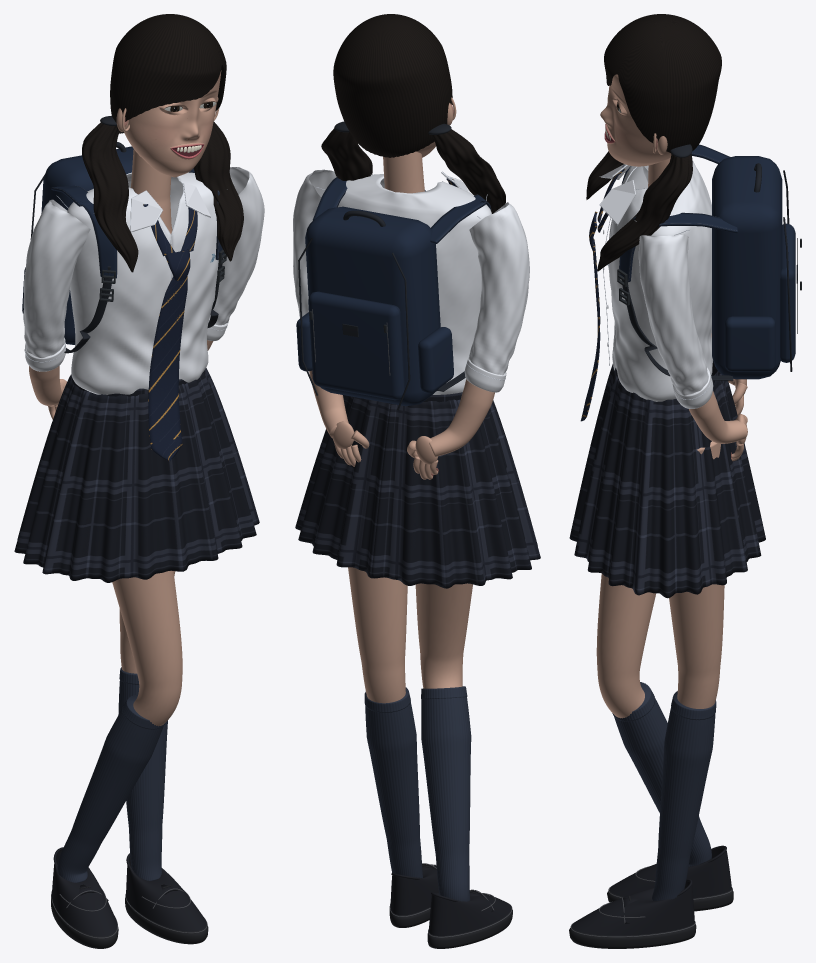
File: gpt6_astra_pro_mcp_blender_rgirljk_lite_web.glb
3 views of the same model, side by side, from view 1: azimuth 30°, elevation 25°; view 2: azimuth 150°, elevation 25°; view 3: azimuth 270°, elevation 25° (orthographic). The views are drawn at different scales.
Visible parts, largest first — view 1: WEB - Original mathematical tartan, WEB - Shirt • soft cotton, WEB - Hair - natural dark underlying mass, WEB - Socks • ribbed midnight cotton, WEB - Skin • warm porcelain, WEB - Original diagonal gold tie weave, WEB - Loafers • black polished leather, Face - unified sculpted skin with exact eyelids and lips, WEB - Backpack • navy woven fabric, WEB - Loafer soles • rubber, WEB - Strap webbing, WEB - Leather stitching; view 2: WEB - Original mathematical tartan, WEB - Backpack • navy woven fabric, WEB - Shirt • soft cotton, WEB - Skin • warm porcelain, WEB - Hair - natural dark underlying mass, WEB - Socks • ribbed midnight cotton, WEB - Loafers • black polished leather, WEB - Strap webbing, WEB - Loafer soles • rubber, WEB - Leather stitching; view 3: WEB - Original mathematical tartan, WEB - Shirt • soft cotton, WEB - Backpack • navy woven fabric, WEB - Hair - natural dark underlying mass, WEB - Skin • warm porcelain, WEB - Socks • ribbed midnight cotton, WEB - Loafers • black polished leather, Face - unified sculpted skin with exact eyelids and lips, WEB - Loafer soles • rubber, WEB - Strap webbing, WEB - Original diagonal gold tie weave, WEB - Leather stitching.
Boxes of the visible parts, <box> form: WEB - Original mathematical tartan: <box>14,368,259,582</box>; WEB - Shirt • soft cotton: <box>23,167,264,394</box>; WEB - Hair - natural dark underlying mass: <box>82,14,243,272</box>; WEB - Socks • ribbed midnight cotton: <box>57,667,167,882</box>; WEB - Skin • warm porcelain: <box>29,97,219,726</box>; WEB - Original diagonal gold tie weave: <box>143,204,197,461</box>; WEB - Loafers • black polished leather: <box>52,847,206,936</box>; Face - unified sculpted skin with exact eyelids and lips: <box>124,70,221,177</box>; WEB - Backpack • navy woven fabric: <box>16,146,223,582</box>; WEB - Loafer soles • rubber: <box>51,884,208,948</box>; WEB - Strap webbing: <box>30,116,222,353</box>; WEB - Leather stitching: <box>51,171,218,938</box>; WEB - Original mathematical tartan: <box>295,392,540,588</box>; WEB - Backpack • navy woven fabric: <box>296,177,537,588</box>; WEB - Shirt • soft cotton: <box>293,169,529,394</box>; WEB - Skin • warm porcelain: <box>309,97,494,703</box>; WEB - Hair - natural dark underlying mass: <box>321,14,505,213</box>; WEB - Socks • ribbed midnight cotton: <box>364,686,471,901</box>; WEB - Loafers • black polished leather: <box>390,864,511,935</box>; WEB - Strap webbing: <box>298,121,465,410</box>; WEB - Loafer soles • rubber: <box>389,865,512,948</box>; WEB - Leather stitching: <box>312,177,512,937</box>; WEB - Original mathematical tartan: <box>569,360,765,597</box>; WEB - Shirt • soft cotton: <box>600,160,713,408</box>; WEB - Backpack • navy woven fabric: <box>580,144,795,598</box>; WEB - Hair - natural dark underlying mass: <box>586,14,721,271</box>; WEB - Skin • warm porcelain: <box>596,133,747,718</box>; WEB - Socks • ribbed midnight cotton: <box>612,682,716,900</box>; WEB - Loafers • black polished leather: <box>572,845,731,935</box>; Face - unified sculpted skin with exact eyelids and lips: <box>600,74,671,166</box>; WEB - Loafer soles • rubber: <box>569,889,733,948</box>; WEB - Strap webbing: <box>621,144,797,380</box>; WEB - Original diagonal gold tie weave: <box>580,165,625,421</box>; WEB - Leather stitching: <box>570,144,797,937</box>.
Size of the model in its own units: 0.4714 by 1.69 by 0.3846.
31 materials, 3 textured.
